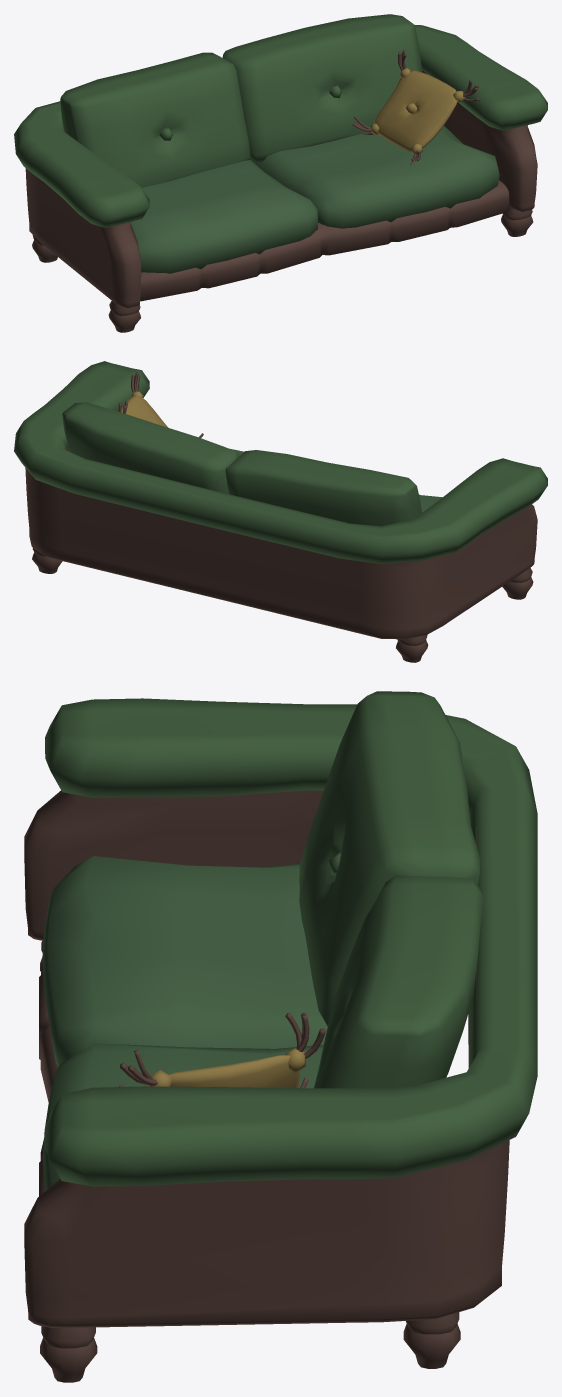
File: couch1.gltf
3 renders of one model, top to bottom at view 1: azimuth 30°, elevation 25°; view 2: azimuth 150°, elevation 25°; view 3: azimuth 270°, elevation 25°, orthographic. The views are drawn at different scales.
Visible parts, largest first — view 1: Cube.003, Cube.002, Cube.025, Cube.004, Cube, Cube.006, Cube.001, Plane.003; view 2: Cube.004, Cube.025, Cube.003, Cube.001, Cube.006; view 3: Cube.025, Cube.004, Cube.003, Cube.002, Cube.001, Cube.006, Cube, Plane.003.
Part boxes in pixels (bbox=[...]): Cube.003: bbox=[60, 14, 422, 187]; Cube.002: bbox=[130, 126, 499, 273]; Cube.025: bbox=[14, 24, 547, 227]; Cube.004: bbox=[25, 70, 537, 308]; Cube: bbox=[140, 180, 509, 301]; Cube.006: bbox=[374, 70, 457, 151]; Cube.001: bbox=[32, 206, 533, 332]; Plane.003: bbox=[352, 50, 479, 165]; Cube.004: bbox=[25, 448, 537, 639]; Cube.025: bbox=[14, 361, 547, 564]; Cube.003: bbox=[62, 402, 421, 526]; Cube.001: bbox=[32, 548, 533, 662]; Cube.006: bbox=[121, 395, 168, 427]; Cube.025: bbox=[45, 698, 537, 1186]; Cube.004: bbox=[24, 790, 509, 1327]; Cube.003: bbox=[299, 691, 484, 1088]; Cube.002: bbox=[42, 856, 327, 1190]; Cube.001: bbox=[40, 941, 460, 1382]; Cube.006: bbox=[168, 1055, 300, 1087]; Cube: bbox=[39, 961, 57, 1196]; Plane.003: bbox=[119, 1013, 325, 1088].
Bounding box in the file's own units: 2.3 × 0.7875 × 1.11.
